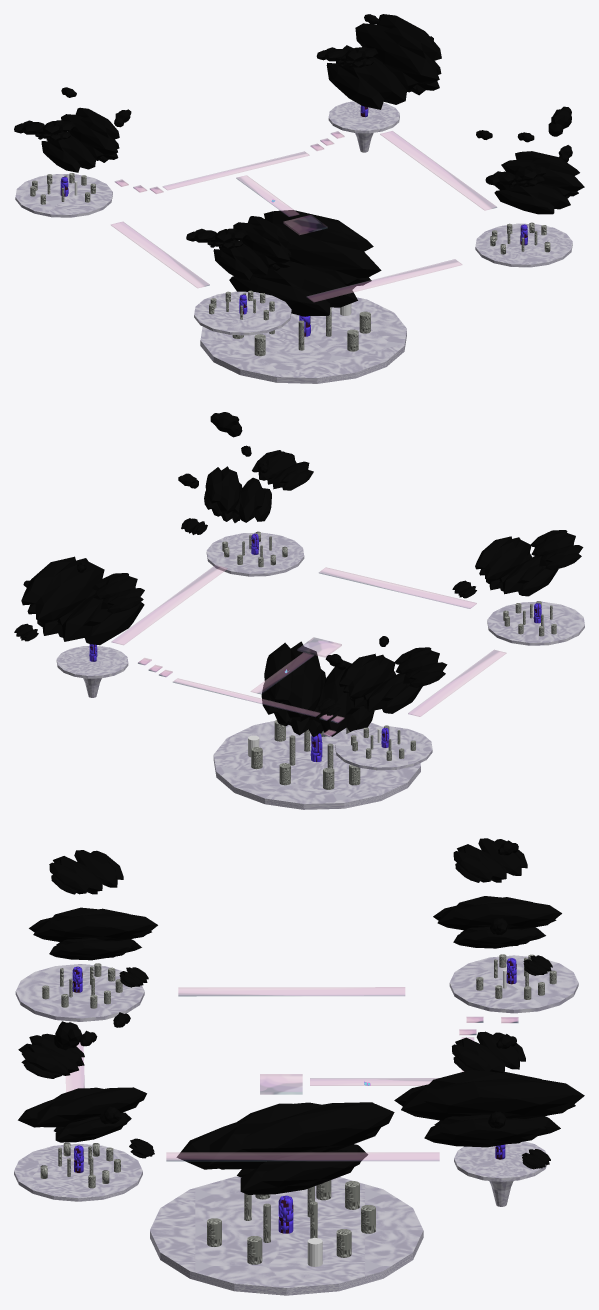
Rendered from Demo_level_heaven_sword.glb.
3 renders of one model, top to bottom at view 1: azimuth 30°, elevation 25°; view 2: azimuth 150°, elevation 25°; view 3: azimuth 270°, elevation 25°, orthographic. The views are drawn at different scales.
Visible parts, largest first — view 1: First_arena.004, Big_Bad_Cloud.014, Big_Bad_Cloud.008, Big_Bad_Cloud.011, Big_Bad_Cloud.001, Big_Bad_Cloud.015, First_arena.003, First_arena.002, First_arena.001, Cylinder.024, TutorialPlatform.003, TutorialPlatform.010 (+9 smaller); view 2: First_arena.004, Big_Bad_Cloud.014, Big_Bad_Cloud.008, Big_Bad_Cloud.001, Big_Bad_Cloud.015, First_arena.002, First_arena.003, First_arena.001, Big_Bad_Cloud.011, Cylinder.024, Big_Bad_Cloud.012, Big_Bad_Cloud.009 (+9 smaller); view 3: First_arena.004, Big_Bad_Cloud.014, Big_Bad_Cloud.008, First_arena.003, First_arena.002, Big_Bad_Cloud.015, First_arena.001, Big_Bad_Cloud.001, Big_Bad_Cloud.011, Cylinder.024, TutorialPlatform.003, Big_Bad_Cloud.016 (+7 smaller).
Boxes of the visible parts, x1,y1,x2,y2 form: First_arena.004: (200, 297, 406, 383); Big_Bad_Cloud.014: (229, 210, 381, 316); Big_Bad_Cloud.008: (326, 14, 441, 109); Big_Bad_Cloud.011: (494, 151, 584, 214); Big_Bad_Cloud.001: (41, 107, 119, 172); Big_Bad_Cloud.015: (213, 216, 291, 280); First_arena.003: (475, 223, 572, 267); First_arena.002: (194, 291, 291, 335); First_arena.001: (15, 174, 112, 217); Cylinder.024: (328, 101, 399, 152); TutorialPlatform.003: (380, 131, 496, 210); TutorialPlatform.010: (306, 259, 461, 301); First_arena.004: (213, 721, 420, 809); Big_Bad_Cloud.014: (261, 641, 374, 737); Big_Bad_Cloud.008: (21, 556, 144, 645); Big_Bad_Cloud.001: (339, 653, 422, 713); Big_Bad_Cloud.015: (475, 536, 558, 596); First_arena.002: (487, 601, 584, 645); First_arena.003: (206, 532, 304, 576); First_arena.001: (335, 726, 432, 770); Big_Bad_Cloud.011: (204, 466, 271, 522); Cylinder.024: (56, 645, 128, 697); Big_Bad_Cloud.012: (252, 450, 313, 490); Big_Bad_Cloud.009: (92, 573, 144, 613); First_arena.004: (150, 1176, 423, 1295); Big_Bad_Cloud.014: (176, 1102, 394, 1194); Big_Bad_Cloud.008: (394, 1070, 584, 1147); First_arena.003: (14, 1143, 142, 1201); First_arena.002: (15, 964, 144, 1021); Big_Bad_Cloud.015: (29, 907, 157, 960); First_arena.001: (449, 955, 578, 1013); Big_Bad_Cloud.001: (433, 896, 561, 948); Big_Bad_Cloud.011: (18, 1087, 146, 1142); Cylinder.024: (454, 1141, 546, 1206); TutorialPlatform.003: (166, 1152, 439, 1161); Big_Bad_Cloud.016: (49, 850, 123, 894).
Size of what is drawn, in the model's own units: 321 by 182 by 288.
Materials: 8 (3 with a texture image).
